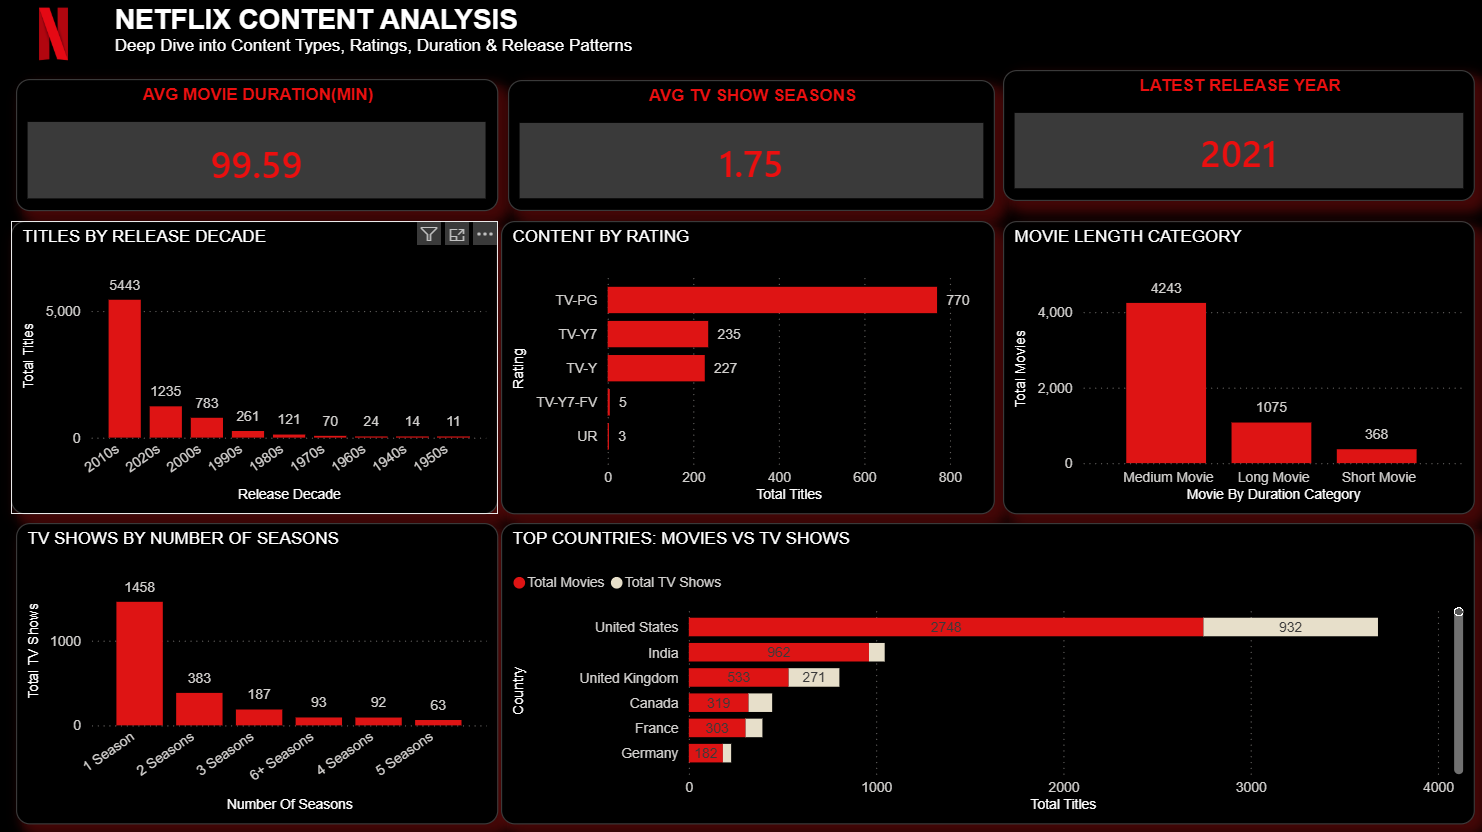

The page's visual inventory and layout, read from the dashboard file:
{"tool":"powerbi","page":{"name":"Content_Analysis","canvas":[1280,720],"ordinal":1},"visuals":[{"type":"textbox","box":[94.9,0,535.6,62.1],"z":0},{"type":"cardVisual","title":"AVG MOVIE DURATION(MIN)","fields":{"Data":["Fact_Netflix.Average Movie Duration"]},"box":[14.7,69.9,415.7,113.9],"z":1000},{"type":"cardVisual","title":"AVG TV SHOW SEASONS","fields":{"Data":["Fact_Netflix.Average TV Show Seasons"]},"box":[439,70.7,420.1,113],"z":2000},{"type":"clusteredColumnChart","title":"TITLES BY RELEASE DECADE","fields":{"Category":["Fact_Netflix.Release Decade"],"Y":["Fact_Netflix.Total Titles"]},"box":[10,192.6,420.3,252.8],"z":3000},{"type":"clusteredBarChart","title":"CONTENT BY RATING","fields":{"Category":["Dim_Rating.rating"],"Y":["Fact_Netflix.Total Titles"]},"box":[433,192.3,426.1,252.7],"z":4000},{"type":"clusteredColumnChart","title":"MOVIE LENGTH CATEGORY","fields":{"Category":["Fact_Netflix.Movie Length Category"],"Y":["Fact_Netflix.Total Movies"]},"box":[865.7,192.6,406.9,252.8],"z":5000},{"type":"clusteredColumnChart","title":"TV SHOWS BY NUMBER OF SEASONS","fields":{"Y":["Fact_Netflix.Total TV Shows"],"Category":["Fact_Netflix.Season Category"]},"box":[14.2,452.9,416.1,259.5],"z":6000},{"type":"barChart","title":"TOP COUNTRIES: MOVIES VS TV SHOWS","fields":{"Category":["Dim_Country.country"],"Y":["Fact_Netflix.Total Movies","Fact_Netflix.Total TV Shows"]},"box":[433,452.8,840.1,259.6],"z":7000},{"type":"image","box":[0,0,94.9,62.1],"z":12000},{"type":"cardVisual","title":"LATEST RELEASE YEAR","fields":{"Data":["Fact_Netflix.Latest Added Year"]},"box":[866,62.1,407.1,113],"z":13000}]}

Visuals, with their boxes in screenshot pixels (x1, y1, x2, y2), scaled from the page's 1280x720 canvas onto the 1482x832 screenshot:
textbox: (left=110, top=0, right=730, bottom=72)
"AVG MOVIE DURATION(MIN)" cardVisual: (left=17, top=81, right=498, bottom=212)
"AVG TV SHOW SEASONS" cardVisual: (left=508, top=82, right=995, bottom=212)
"TITLES BY RELEASE DECADE" clusteredColumnChart: (left=12, top=223, right=498, bottom=515)
"CONTENT BY RATING" clusteredBarChart: (left=501, top=222, right=995, bottom=514)
"MOVIE LENGTH CATEGORY" clusteredColumnChart: (left=1002, top=223, right=1473, bottom=515)
"TV SHOWS BY NUMBER OF SEASONS" clusteredColumnChart: (left=16, top=523, right=498, bottom=823)
"TOP COUNTRIES: MOVIES VS TV SHOWS" barChart: (left=501, top=523, right=1474, bottom=823)
image: (left=0, top=0, right=110, bottom=72)
"LATEST RELEASE YEAR" cardVisual: (left=1003, top=72, right=1474, bottom=202)
